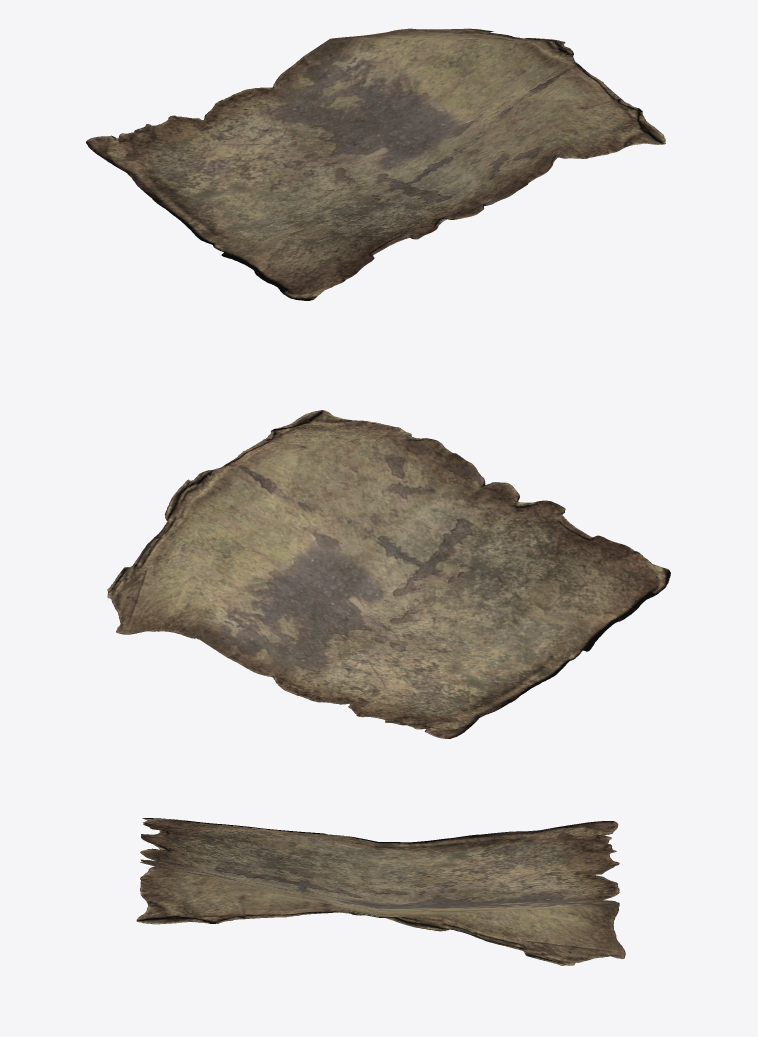
The model's file is paperTrash04.FBX.
3 renders of one model, top to bottom at view 1: azimuth 30°, elevation 25°; view 2: azimuth 150°, elevation 25°; view 3: azimuth 270°, elevation 25°, orthographic. The views are drawn at different scales.
Visible parts, largest first — view 1: SM_PaperTrash04; view 2: SM_PaperTrash04; view 3: SM_PaperTrash04.
Part boxes in pixels (<box>): SM_PaperTrash04: <box>86,28,665,300</box>; SM_PaperTrash04: <box>107,410,670,738</box>; SM_PaperTrash04: <box>136,818,625,965</box>.
Size of the model in its own units: 18.53 by 5.09 by 28.88.
1 material, 1 textured.
